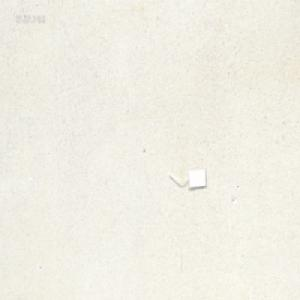LuggageTag: (166, 166, 206, 188)
